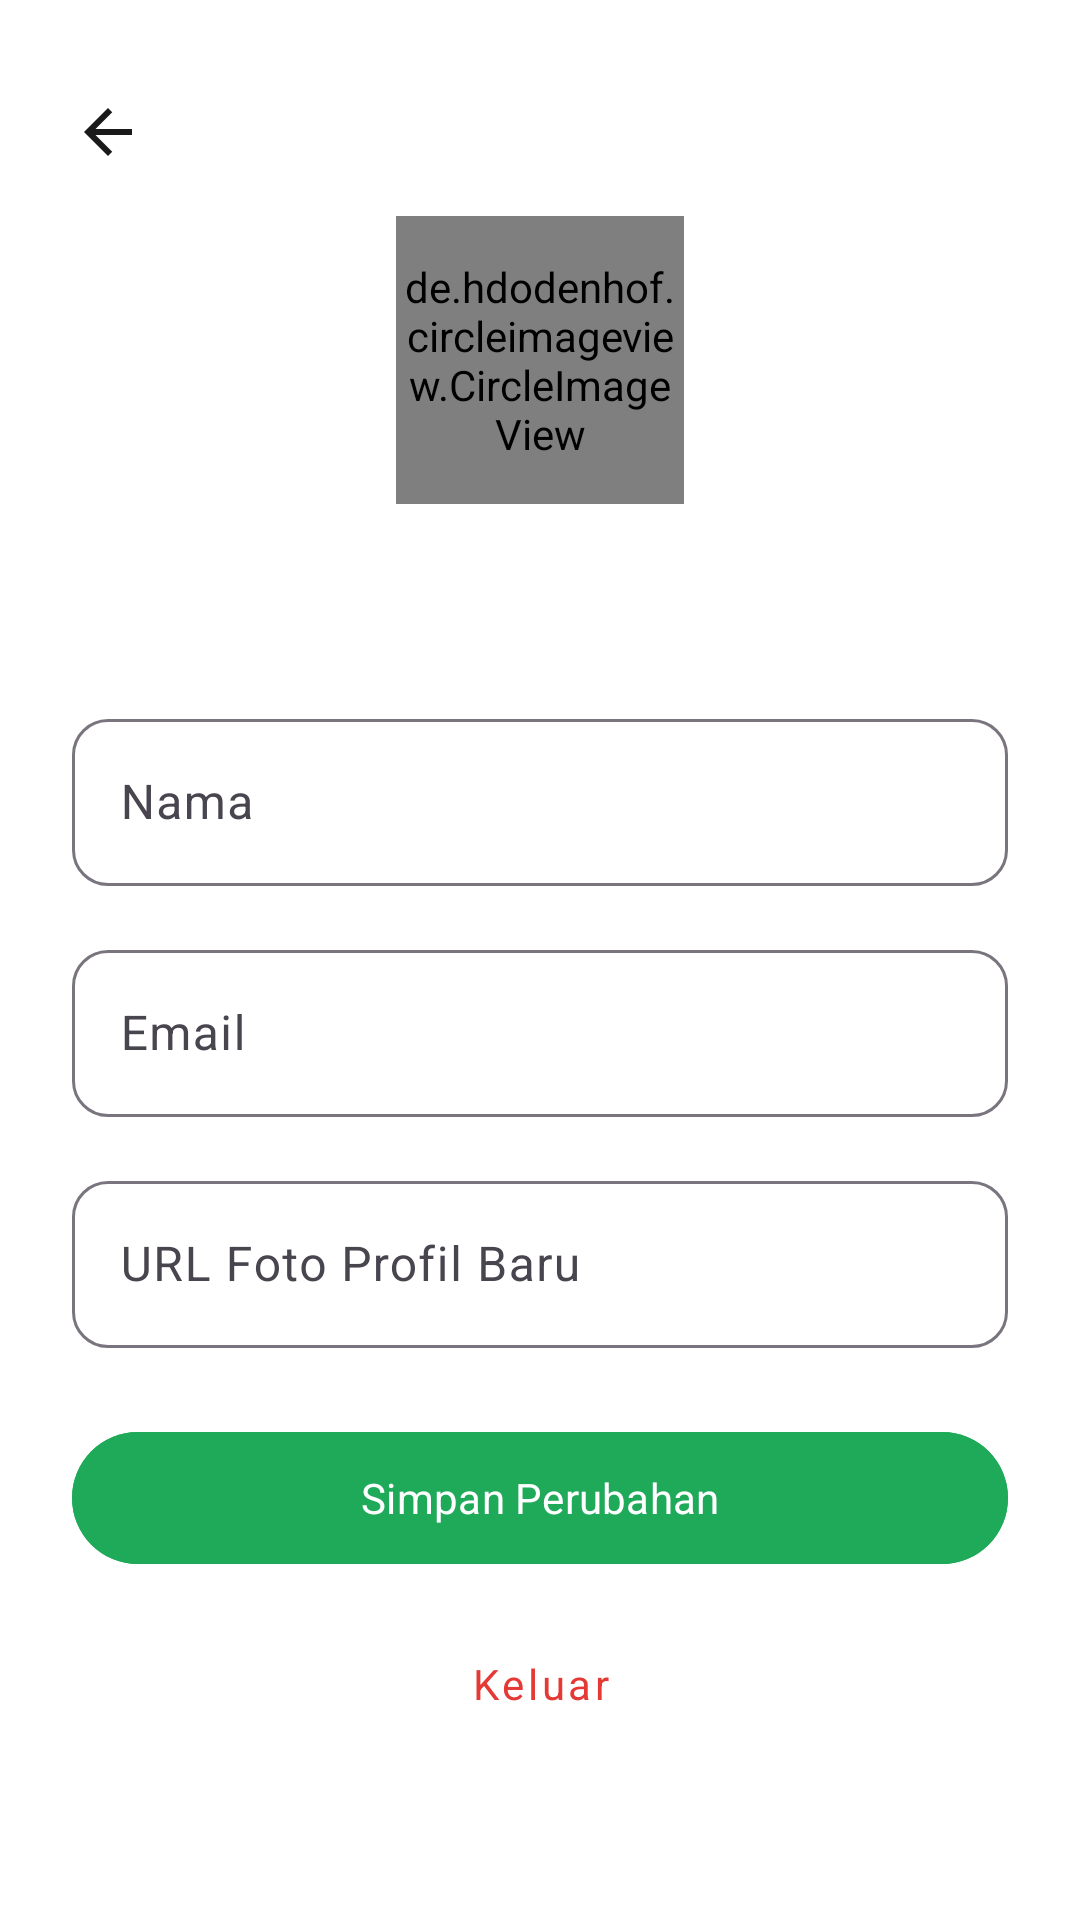

Point at icon controls on the screen. Image size 1080*1920, points as [x,y].
back: [108,132]
